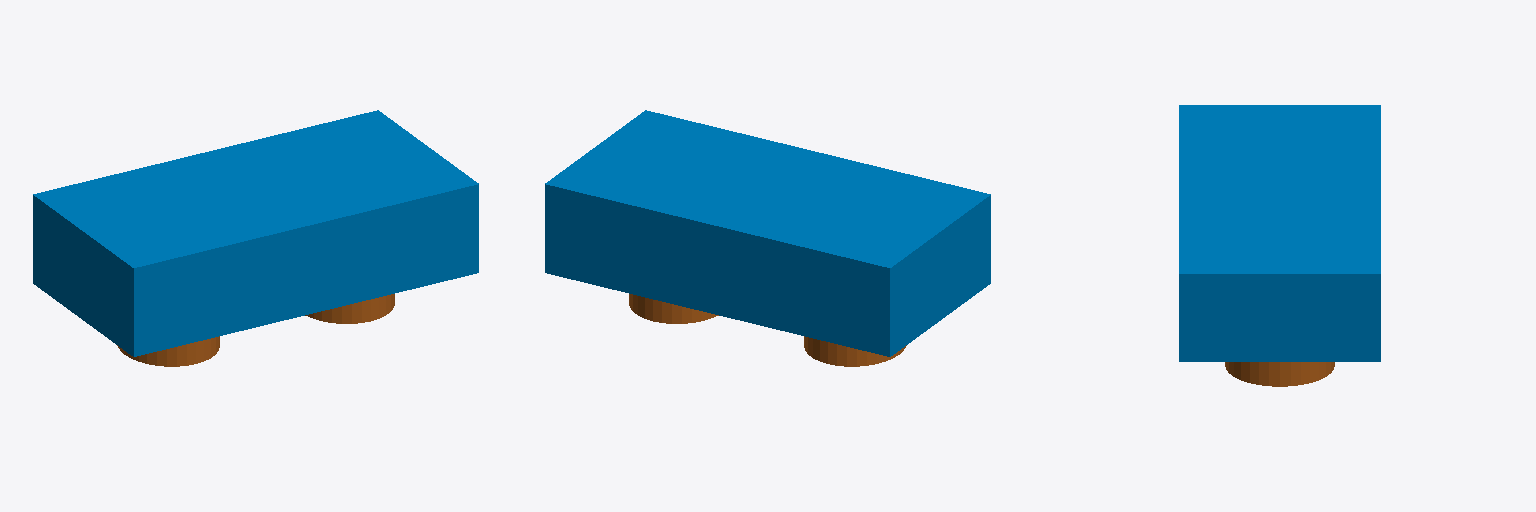
The model's file is paddle.obj.
The picture shows the model from 3 angles: view 1: azimuth 30°, elevation 25°; view 2: azimuth 150°, elevation 25°; view 3: azimuth 270°, elevation 25°; orthographic projection.
Bounding box in the file's own units: 3.95 × 1.46 × 2.